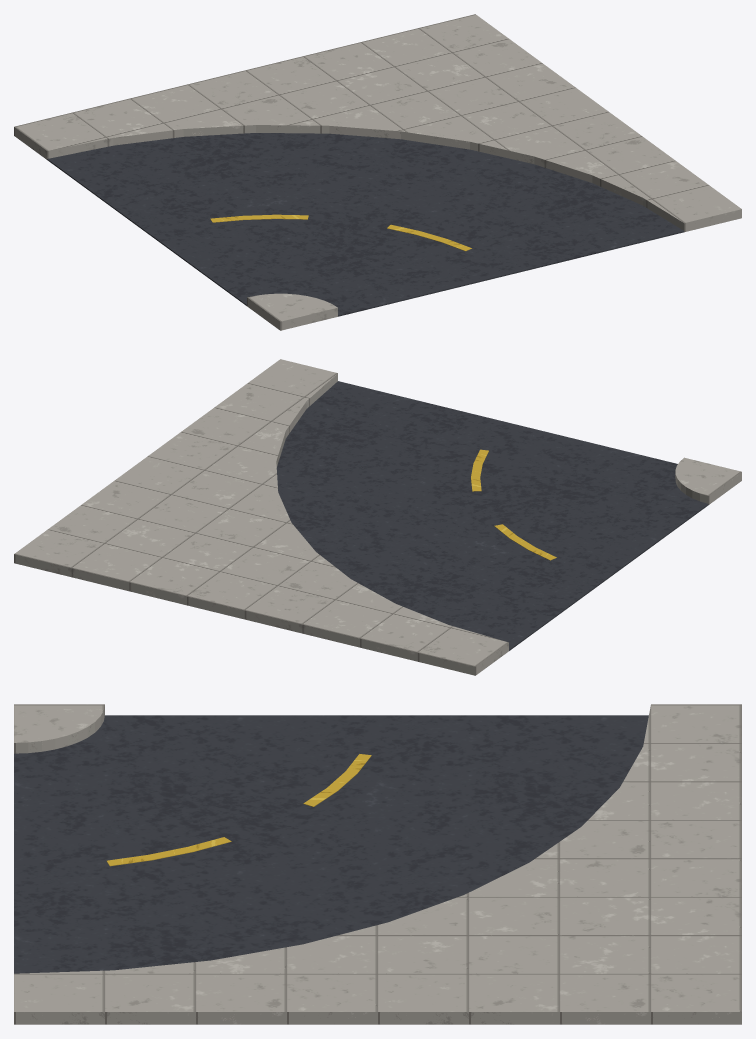
The model's file is road_curve.glb.
The picture shows the model from 3 angles, top to bottom: view 1: azimuth 30°, elevation 25°; view 2: azimuth 150°, elevation 25°; view 3: azimuth 270°, elevation 25°; orthographic projection. The views are drawn at different scales.
Parts seen in each view (by area): view 1: Ground; view 2: Ground; view 3: Ground.
Part boxes in pixels (box(x1,y1,x2,y2)): Ground: box(14, 14, 741, 330); Ground: box(14, 359, 741, 675); Ground: box(14, 704, 741, 1024).
Bounding box in the file's own units: 8 × 0.15 × 8.
Materials: 3 (3 with a texture image).
